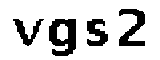2: (116, 6, 148, 51)
g: (47, 14, 79, 59)
s: (85, 17, 110, 48)
v: (11, 14, 44, 48)
